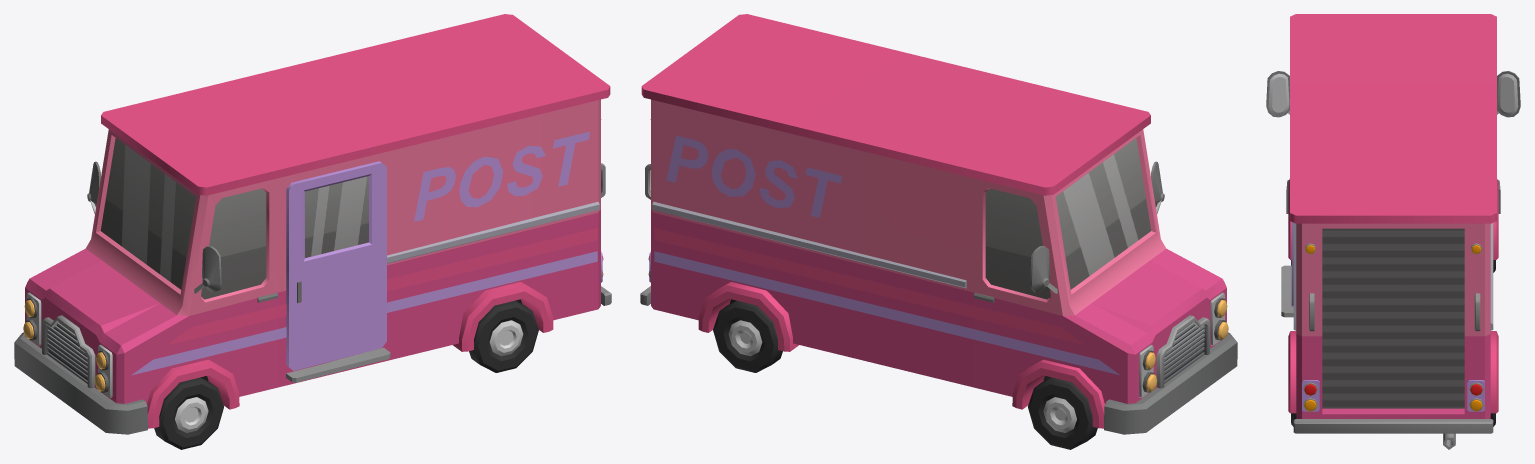
Rendered from PostCar_1_E.gltf.
3 renders of one model, left to right at view 1: azimuth 30°, elevation 25°; view 2: azimuth 150°, elevation 25°; view 3: azimuth 270°, elevation 25°, orthographic.
Visible parts, largest first — view 1: PostCar_1_E, RL, FL; view 2: PostCar_1_E, RR, FR; view 3: PostCar_1_E.
Boxes of the visible parts, box(x1,y1,x2,y2) form: PostCar_1_E: box(14, 14, 611, 434); RL: box(469, 300, 538, 372); FL: box(154, 377, 223, 449); PostCar_1_E: box(640, 14, 1237, 434); RR: box(713, 300, 782, 372); FR: box(1028, 377, 1097, 449); PostCar_1_E: box(1266, 14, 1520, 449).
Size of the model in its own units: 4.14 by 2.02 by 1.8.
Materials: 5 (5 with a texture image).
